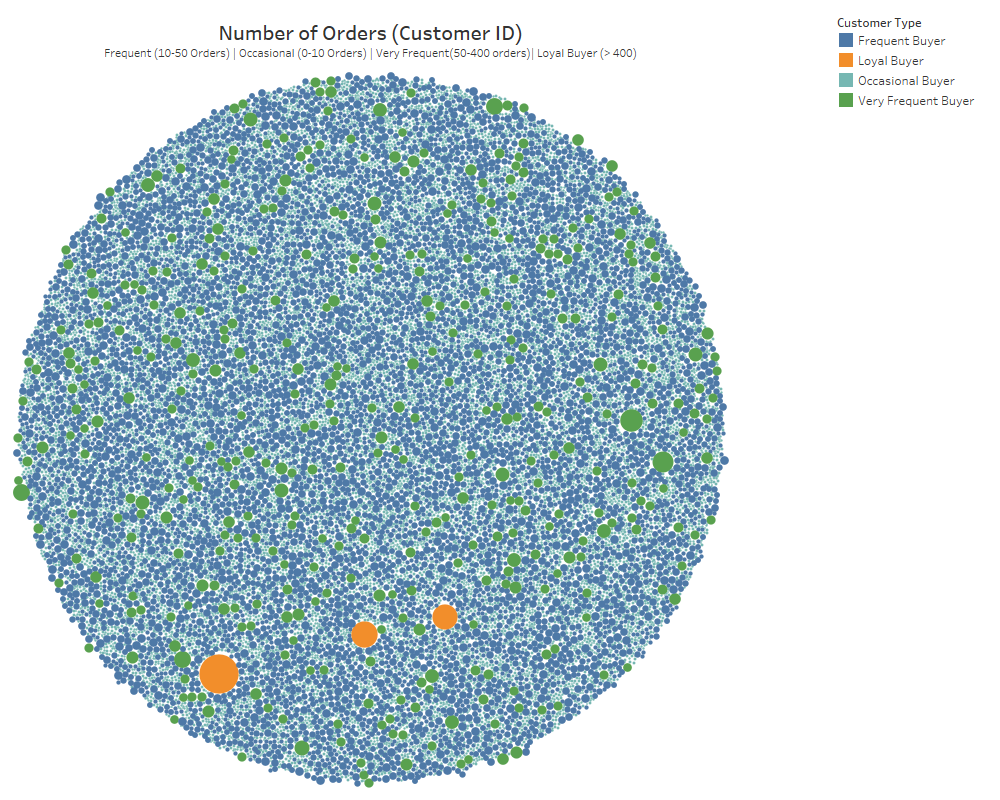

What the dashboard file says about the page in this screenshot:
{"tool":"tableau","page":{"name":"Dashboard 4","canvas":[1000,800],"ordinal":2},"visuals":[{"type":"worksheet","title":"Number of order(Customer ID)","mark":"Circle","box":[8,8,824,784]},{"type":"legend","title":"Number of order(Customer ID)","param":"[federated.1pqh77x0vrohaq1gon2cm03p0s9q].[usr:Calculation_413486743021342721:nk]","box":[832,8,160,106]}]}

Visuals, with their boxes in screenshot pixels (x1, y1, x2, y2), scaled from the page's 1000x800 canvas onto the 1000x800 screenshot:
"Number of order(Customer ID)" worksheet (Circle marks): (8, 8, 832, 792)
"Number of order(Customer ID)" legend: (832, 8, 992, 114)
